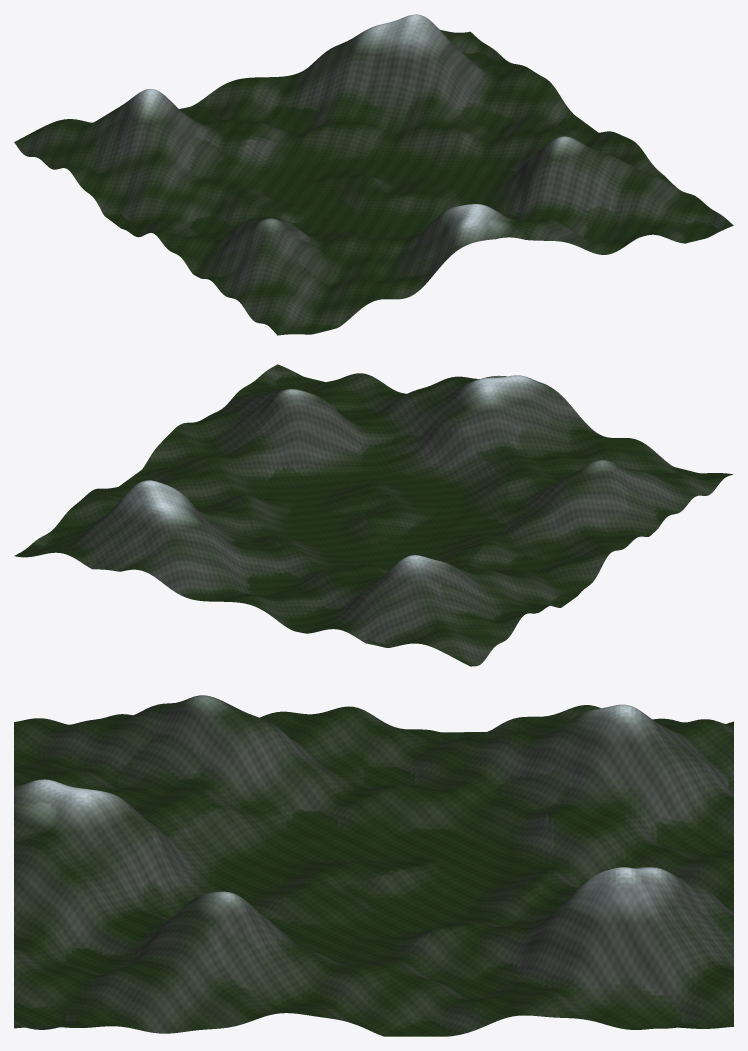
Rendered from terrain-forest.glb.
3 views of the same model, one above another, from view 1: azimuth 30°, elevation 25°; view 2: azimuth 150°, elevation 25°; view 3: azimuth 270°, elevation 25° (orthographic). The views are drawn at different scales.
Parts seen in each view (by area): view 1: Forest biome; view 2: Forest biome; view 3: Forest biome.
Part boxes in pixels (<box>): Forest biome: <box>14,14,733,335</box>; Forest biome: <box>14,364,732,666</box>; Forest biome: <box>14,695,733,1036</box>.
Size of the model in its own units: 1700 by 272 by 1700.
Materials: 1 (1 with a texture image).
